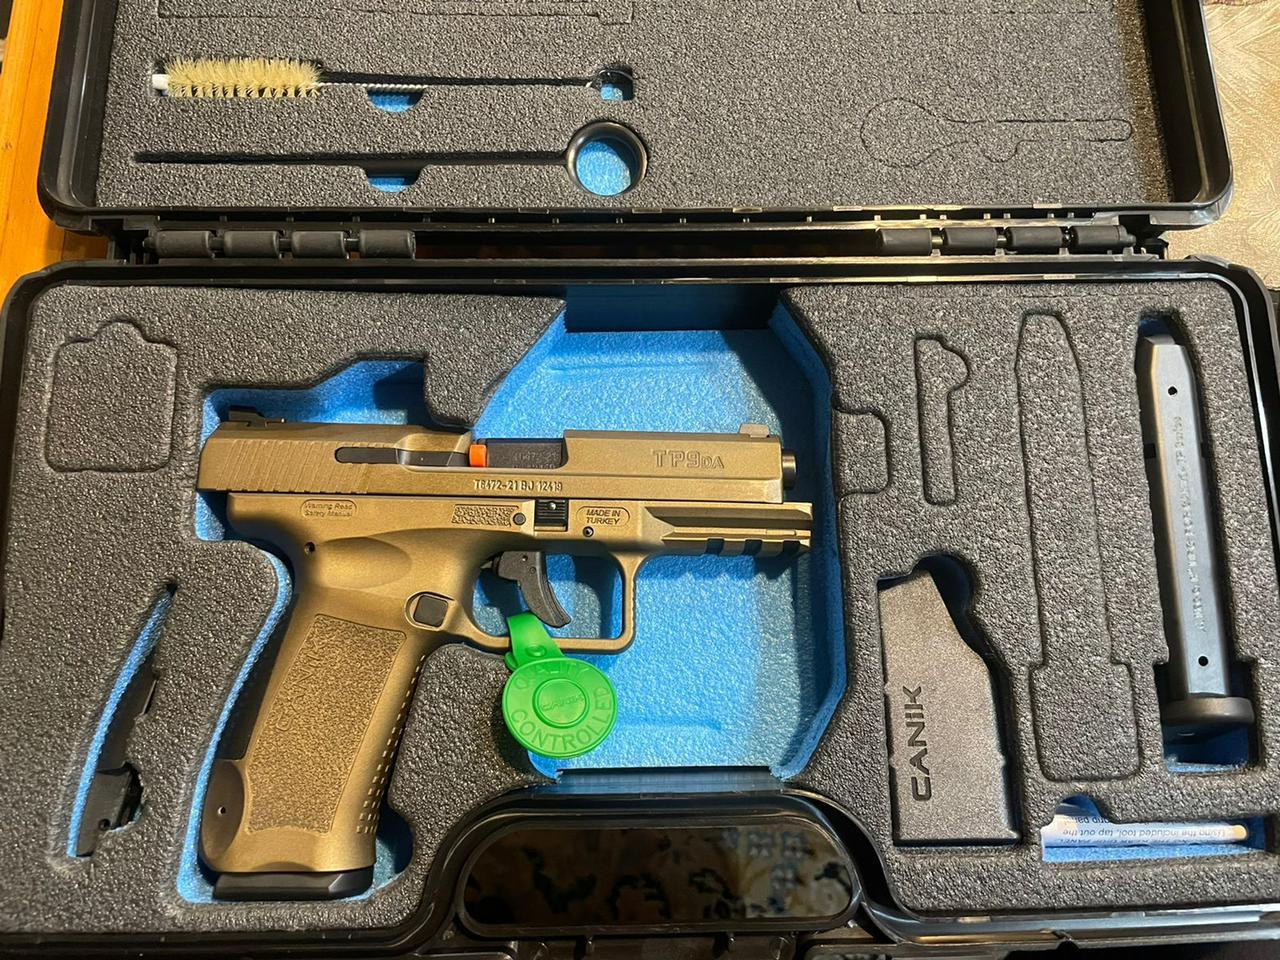weapon: (185, 409, 814, 898)
